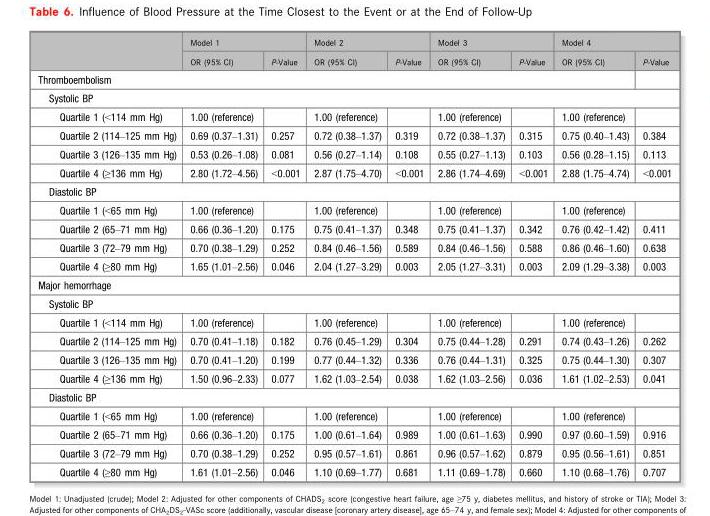table: (37, 36, 671, 477)
table column: (37, 36, 182, 477), (182, 36, 263, 477), (306, 36, 387, 477), (430, 36, 511, 477), (554, 36, 635, 477), (263, 36, 306, 477), (387, 36, 430, 477), (511, 36, 554, 477), (635, 36, 671, 477)
table column header: (37, 36, 671, 69)
table projected row header: (37, 69, 671, 88), (37, 181, 671, 200), (37, 293, 671, 312), (37, 88, 671, 106), (37, 275, 671, 293), (37, 387, 671, 405)
table row: (37, 69, 671, 88), (37, 106, 671, 125), (37, 125, 671, 144), (37, 162, 671, 181), (37, 181, 671, 200), (37, 200, 671, 219), (37, 237, 671, 256), (37, 256, 671, 275), (37, 293, 671, 312), (37, 312, 671, 331), (37, 349, 671, 368), (37, 368, 671, 387), (37, 405, 671, 424), (37, 424, 671, 443), (37, 443, 671, 462), (37, 51, 671, 69), (37, 88, 671, 106), (37, 144, 671, 162), (37, 219, 671, 237), (37, 275, 671, 293), (37, 331, 671, 349), (37, 387, 671, 405), (37, 36, 671, 51), (37, 462, 671, 477)
table spanning cell: (182, 36, 306, 51), (306, 36, 430, 51), (430, 36, 554, 51), (554, 36, 671, 51)
